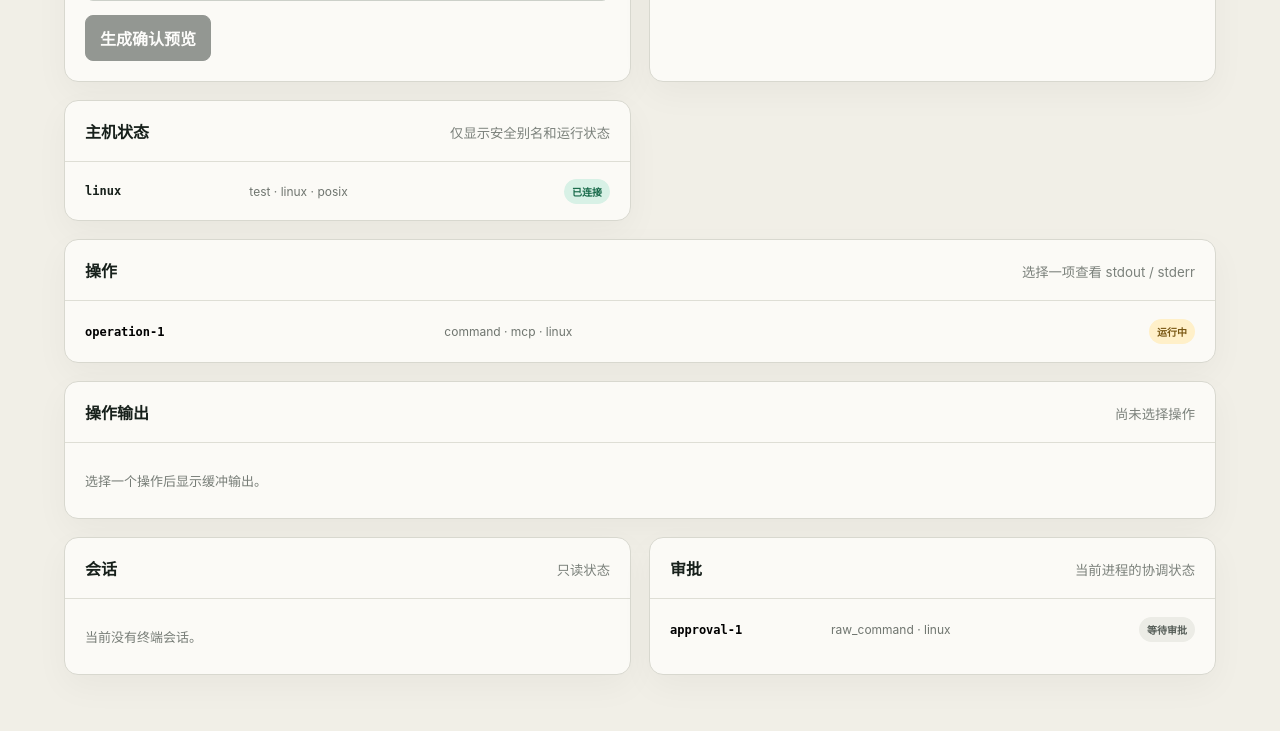
控制台审批、取消与键盘流程 › 后到决定明确提示已由其他通道处理
(page scrolled)
Click the button "approval-1 raw_command · linux 等待审批" at (932, 630), box [650, 599, 1215, 660]
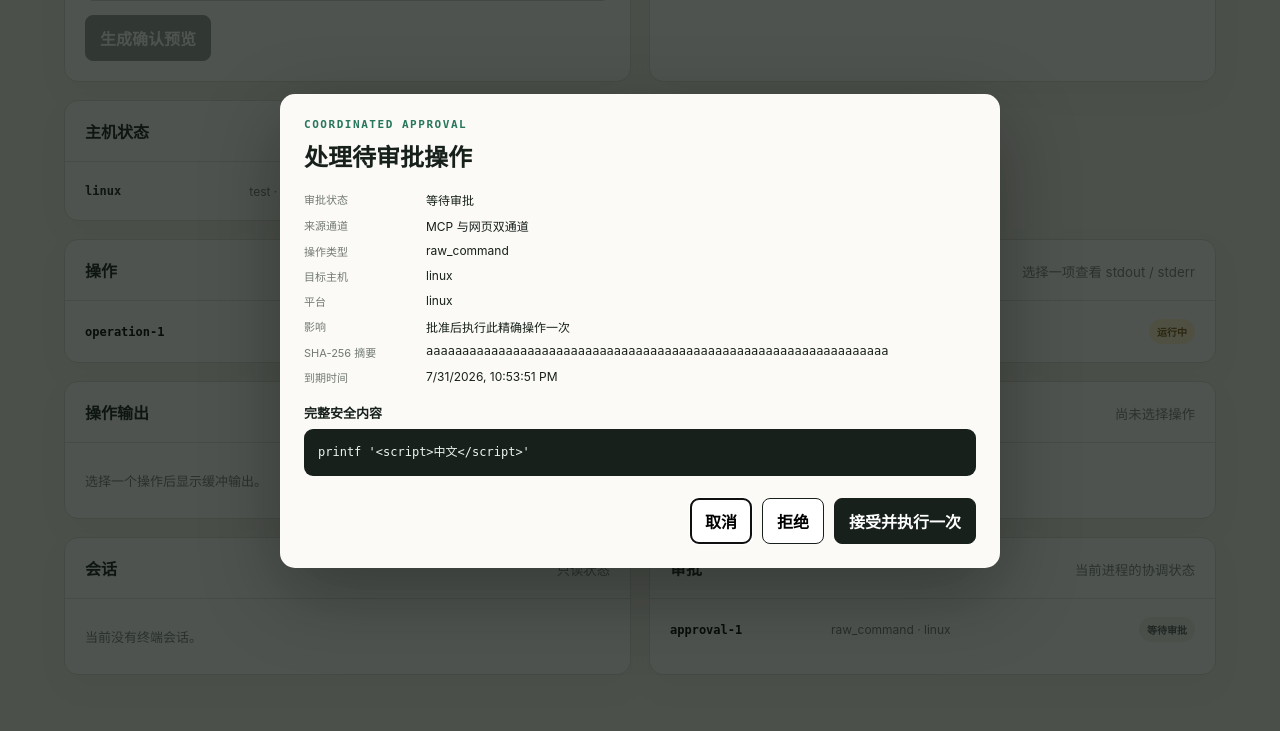
Click the button "接受并执行一次" at (905, 521), box [834, 498, 976, 544]
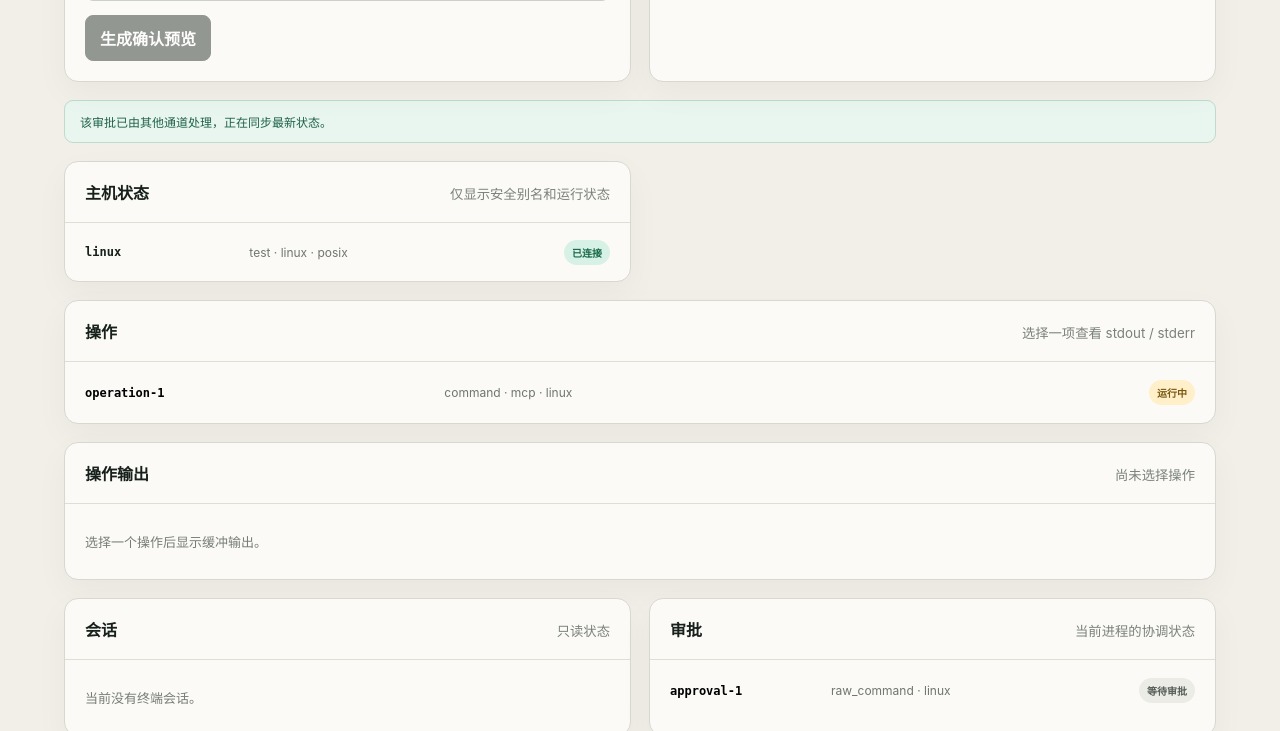
expect the text "已由其他通道处理" is shown: met, box [80, 115, 332, 130]
